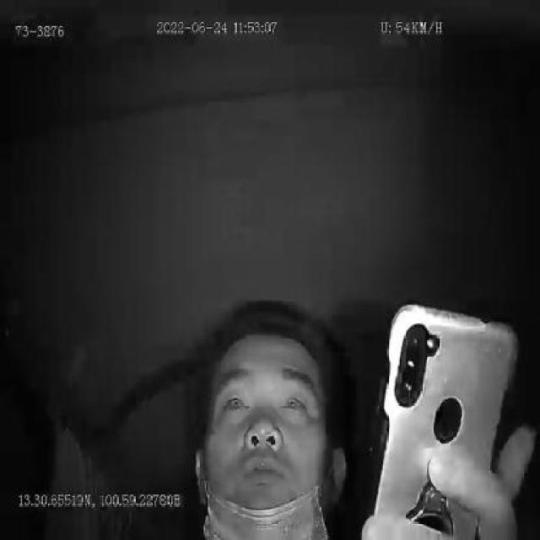phone: (369, 307, 516, 540)
